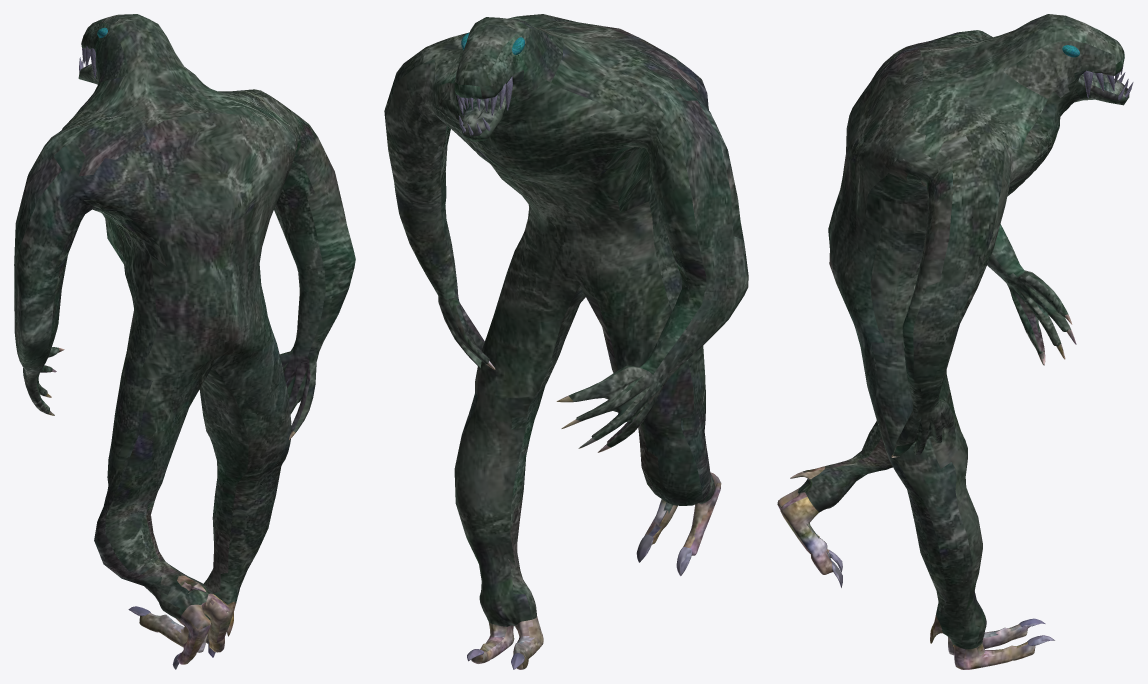
File: Andar.0007.obj
3 renders of one model, left to right at view 1: azimuth 30°, elevation 25°; view 2: azimuth 150°, elevation 25°; view 3: azimuth 270°, elevation 25°, orthographic. The views are drawn at different scales.
Parts seen in each view (by area): view 1: polySurface28; view 2: polySurface28; view 3: polySurface28.
Part boxes in pixels (x1,y1,x2,y2): polySurface28: (14, 14, 355, 669); polySurface28: (384, 14, 748, 669); polySurface28: (777, 14, 1133, 669).
Size of the model in its own units: 1.27 by 2.3 by 1.18.
Materials: 4 (4 with a texture image).
